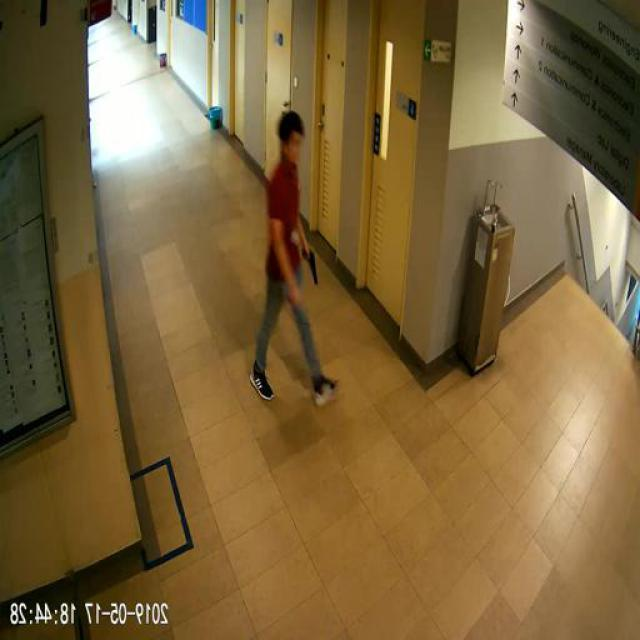Gun: (304, 242, 318, 282)
